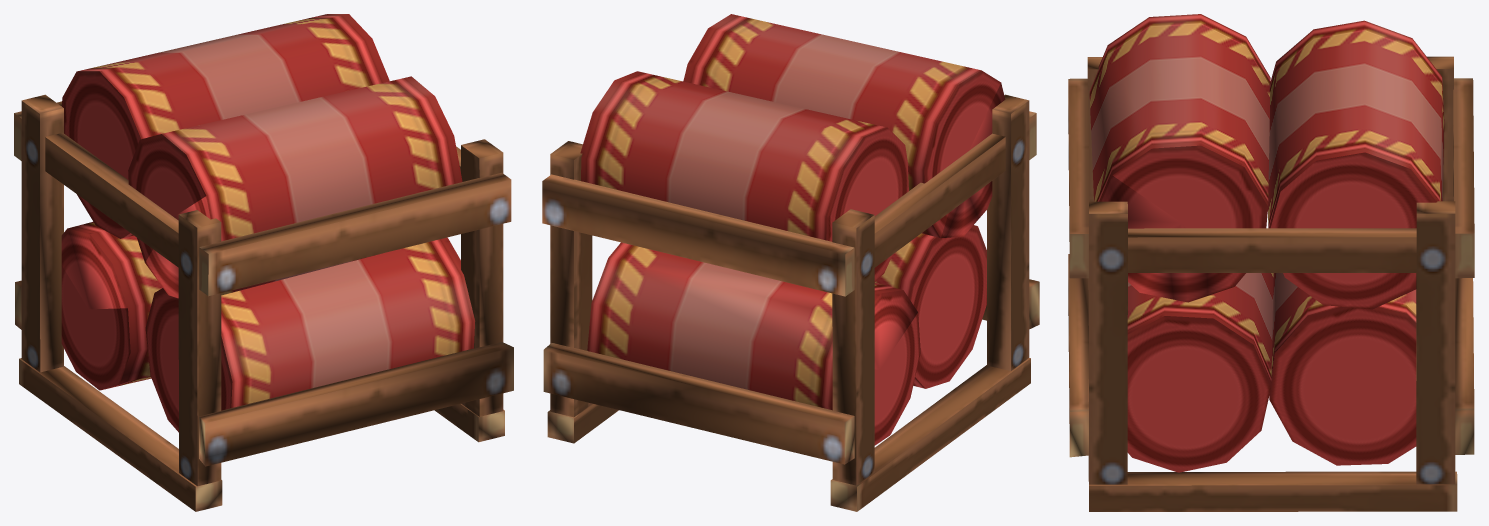
Rendered from Drum.fbx.
3 renders of one model, left to right at view 1: azimuth 30°, elevation 25°; view 2: azimuth 150°, elevation 25°; view 3: azimuth 270°, elevation 25°, orthographic. The views are drawn at different scales.
Visible parts, largest first — view 1: Drum; view 2: Drum; view 3: Drum.
Boxes of the visible parts, x1=… form: Drum: x1=14, y1=14, x2=513, y2=511; Drum: x1=542, y1=14, x2=1039, y2=511; Drum: x1=1068, y1=14, x2=1474, y2=511.
Size of the model in its own units: 76.36 by 78.67 by 82.41.
